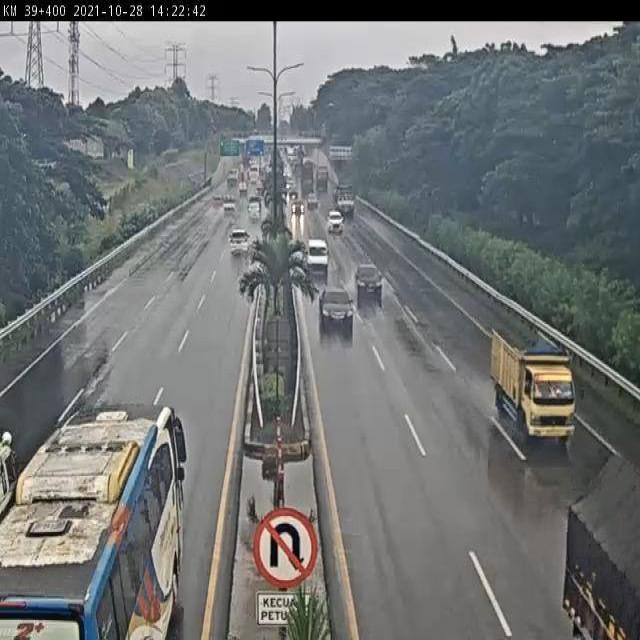bus-l-: (0, 402, 186, 640)
truck-s-: (490, 326, 577, 442)
